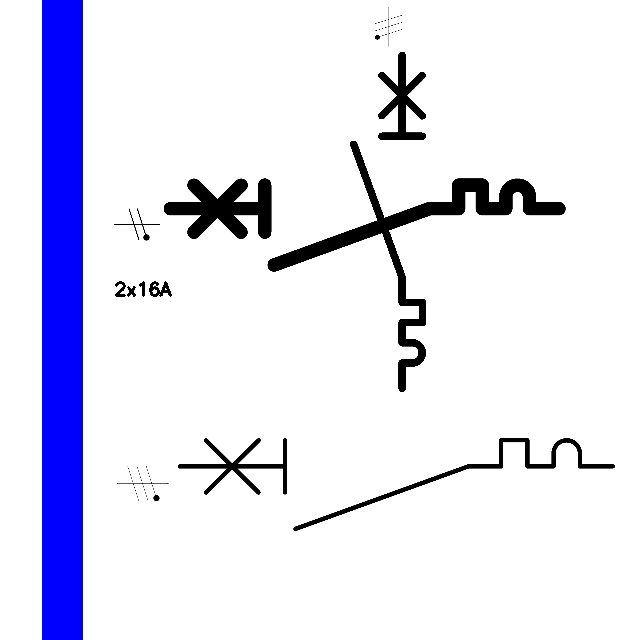interruptor_termomagnetico: (168, 429, 623, 540), (160, 175, 569, 275), (345, 46, 431, 396)
